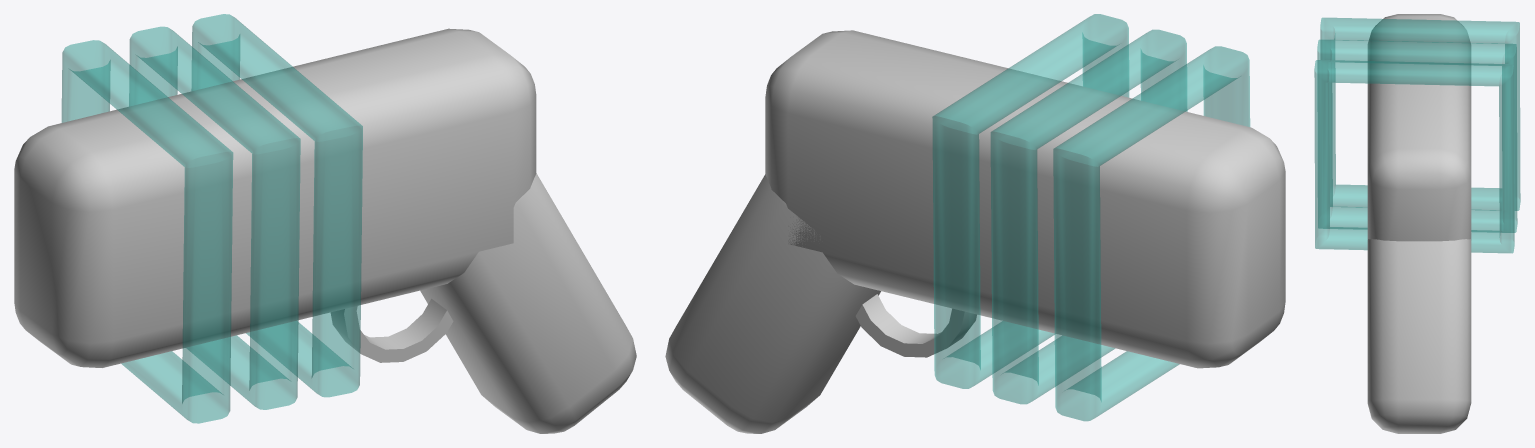
The model's file is Freeze Gun Model.fbx.
3 views of the same model, side by side, from view 1: azimuth 30°, elevation 25°; view 2: azimuth 150°, elevation 25°; view 3: azimuth 270°, elevation 25° (orthographic). The views are drawn at different scales.
Parts seen in each view (by area): view 1: Cube_1, Cube, Tube_3, Tube_2, Tube_1, Tube; view 2: Cube_1, Cube, Tube_3, Tube_2, Tube_1, Tube; view 3: Cube_1, Cube, Tube_1, Tube_2, Tube_3.
Boxes of the visible parts, x1,y1,x2,y2 form: Cube_1: [14, 28, 536, 367]; Cube: [420, 173, 636, 433]; Tube_3: [61, 40, 233, 423]; Tube_2: [129, 26, 300, 409]; Tube_1: [191, 14, 362, 397]; Tube: [330, 298, 453, 362]; Cube_1: [765, 30, 1285, 368]; Cube: [665, 174, 880, 433]; Tube_3: [1053, 46, 1250, 421]; Tube_2: [990, 29, 1187, 404]; Tube_1: [932, 14, 1129, 388]; Tube: [855, 294, 976, 357]; Cube_1: [1367, 14, 1471, 241]; Cube: [1367, 239, 1471, 433]; Tube_1: [1314, 60, 1514, 253]; Tube_2: [1317, 39, 1517, 232]; Tube_3: [1320, 17, 1520, 210].
Bounding box in the file's own units: 44.34 × 30.34 × 20.2.
